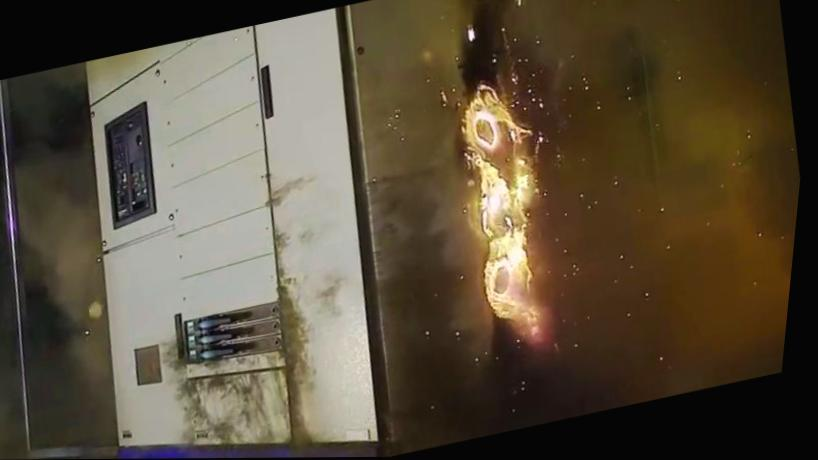fire: (402, 46, 584, 368)
